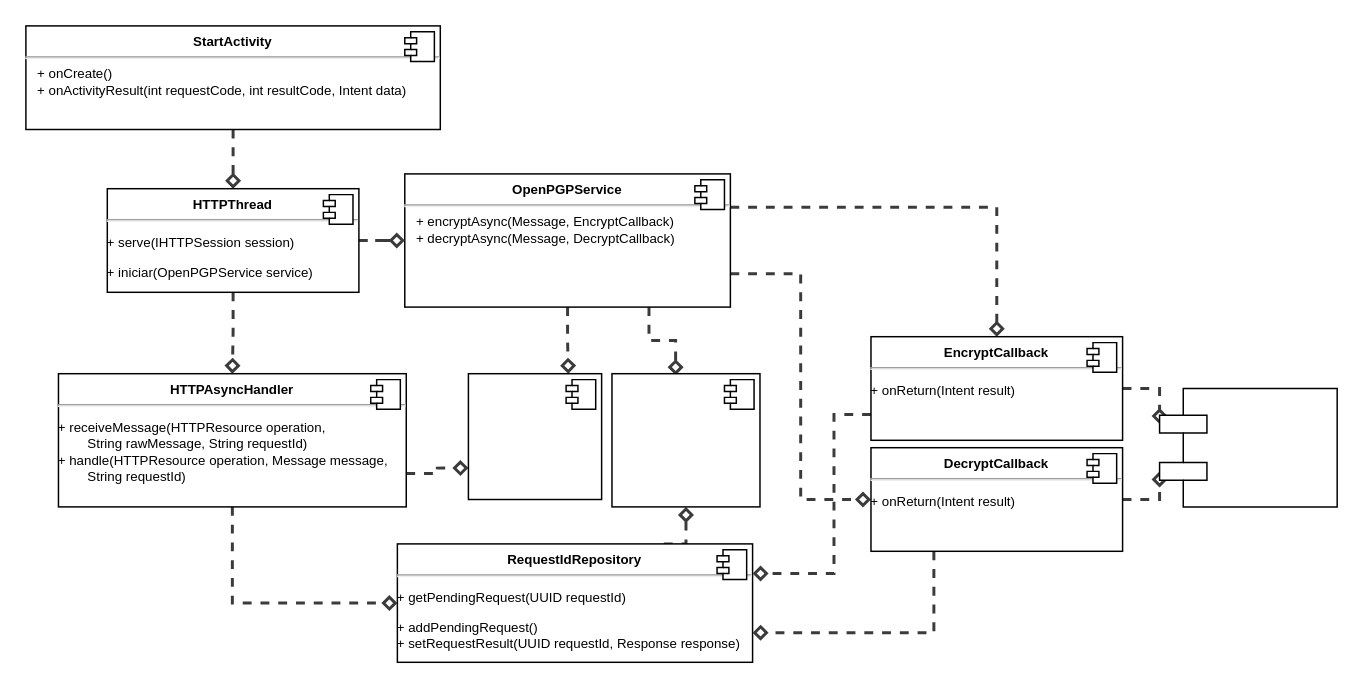
Some shapes in this 1363 by 688 pixel diagram are drawn without their labels. Here are the shapes that lost their labels. From the top down, the centre of each, then its label:
pixel 534 436: Message + receiver :String + requestId: String + content: String
pixel 685 439: Response + cipherContent + plainContent + statusMessage + requestId + time
pixel 1247 447: Serviços OpenKeyChain
